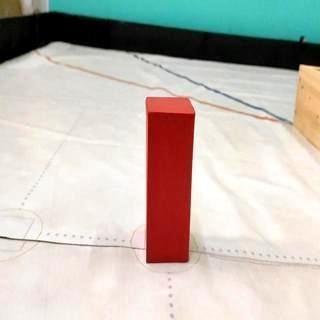redbox: (148, 97, 192, 263)
